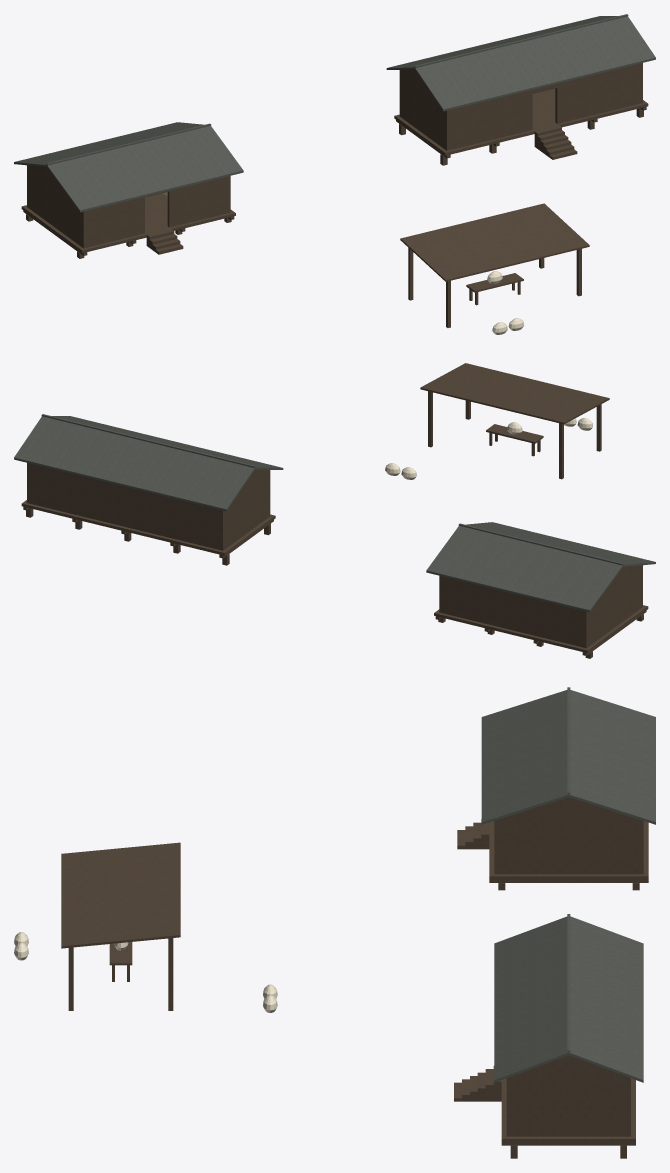
The model's file is granary-group-LOD1.glb.
The picture shows the model from 3 angles, top to bottom: view 1: azimuth 30°, elevation 25°; view 2: azimuth 150°, elevation 25°; view 3: azimuth 270°, elevation 25°; orthographic projection. The views are drawn at different scales.
Visible parts, largest first — view 1: granary-group-static_timber, granary-group-static_tile, granary-group-static_paper__cargo_proxy; view 2: granary-group-static_timber, granary-group-static_tile, granary-group-static_paper__cargo_proxy; view 3: granary-group-static_tile, granary-group-static_timber, granary-group-static_paper__cargo_proxy.
Boxes of the visible parts, x1=… form: granary-group-static_timber: x1=21, y1=63, x2=648, y2=327; granary-group-static_tile: x1=14, y1=14, x2=655, y2=212; granary-group-static_paper__cargo_proxy: x1=163, y1=192, x2=524, y2=334; granary-group-static_timber: x1=21, y1=363, x2=648, y2=658; granary-group-static_tile: x1=14, y1=414, x2=655, y2=612; granary-group-static_paper__cargo_proxy: x1=385, y1=418, x2=592, y2=479; granary-group-static_tile: x1=481, y1=687, x2=655, y2=1082; granary-group-static_timber: x1=61, y1=797, x2=648, y2=1158; granary-group-static_paper__cargo_proxy: x1=14, y1=932, x2=277, y2=1012.
Bounding box in the file's own units: 35.5 × 4.95 × 25.8.
Materials: 3 (2 with a texture image).
